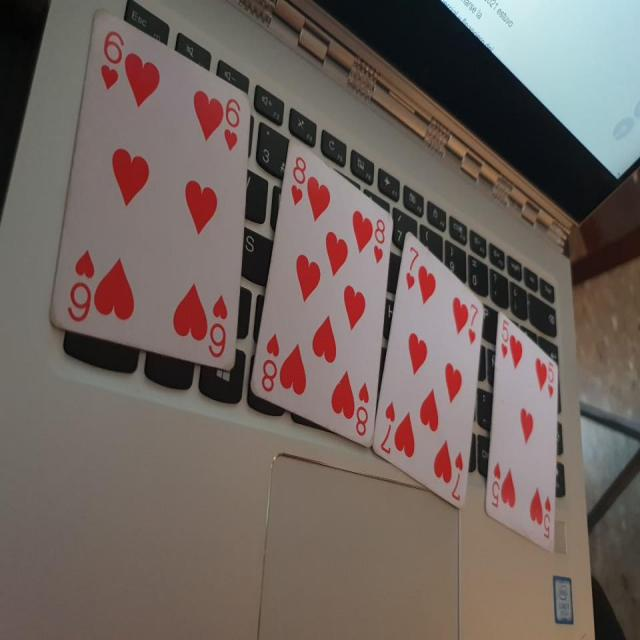5 Hearts: (486, 302, 564, 558)
6 Hearts: (49, 5, 256, 376)
7 Hearts: (372, 228, 488, 518)
8 Hearts: (248, 136, 398, 453)
